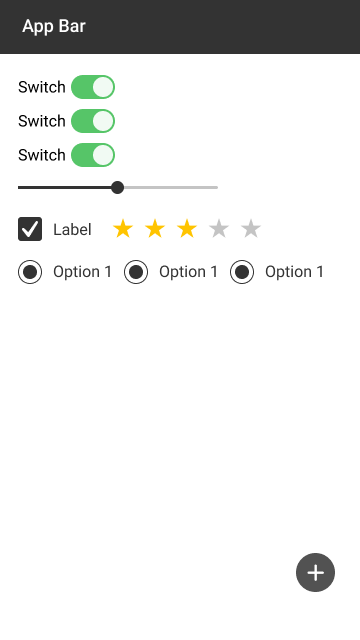checkBox: (16, 215, 93, 242)
floatingButton: (293, 552, 337, 594)
radioButton: (16, 258, 112, 286), (122, 259, 218, 285), (229, 260, 324, 285)
ratingBar: (112, 217, 262, 239)
slider1: (16, 181, 224, 194)
switch: (16, 73, 116, 100), (18, 109, 117, 135), (16, 142, 117, 167)
toolbar: (1, 1, 360, 57)
